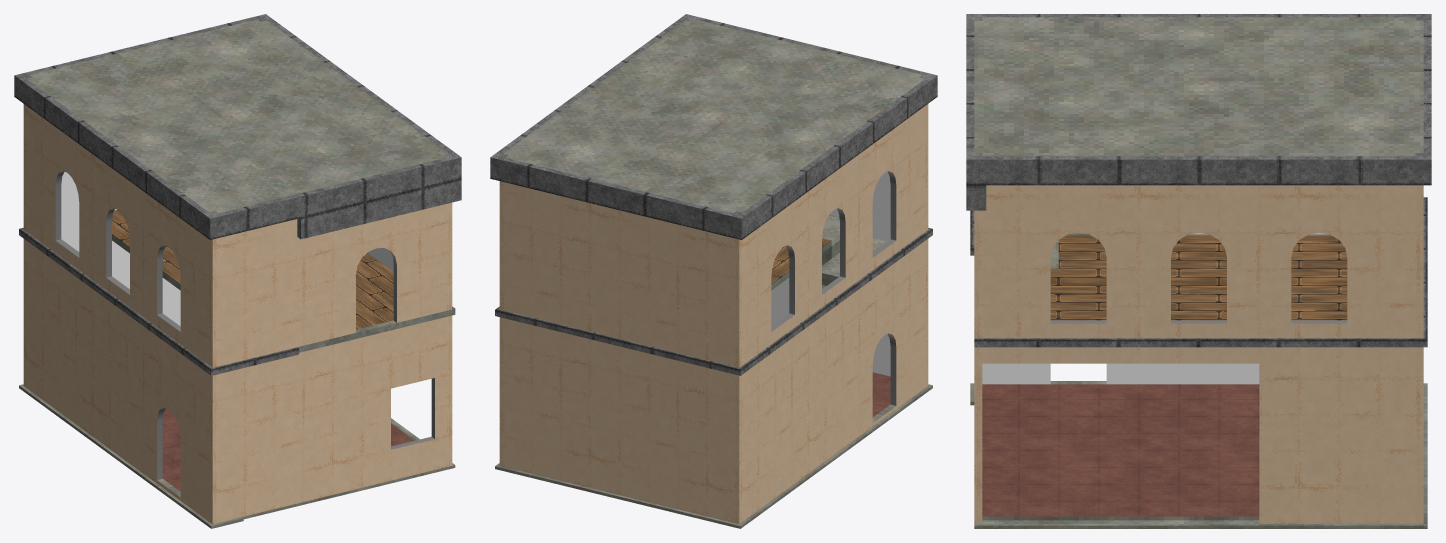
The model's file is cs_se_building_0.glb.
3 views of the same model, side by side, from view 1: azimuth 30°, elevation 25°; view 2: azimuth 150°, elevation 25°; view 3: azimuth 270°, elevation 25° (orthographic). The views are drawn at different scales.
Parts seen in each view (by area): view 1: Room0; view 2: Room0, Room0Stair; view 3: Room0.
Boxes of the visible parts, box(x1,y1,x2,y2) form: Room0: box(14, 14, 461, 528); Room0: box(490, 14, 937, 528); Room0Stair: box(822, 214, 887, 288); Room0: box(966, 14, 1431, 528).
Bounding box in the file's own units: 8.6 × 10.2 × 11.6.
Materials: 7 (5 with a texture image).
